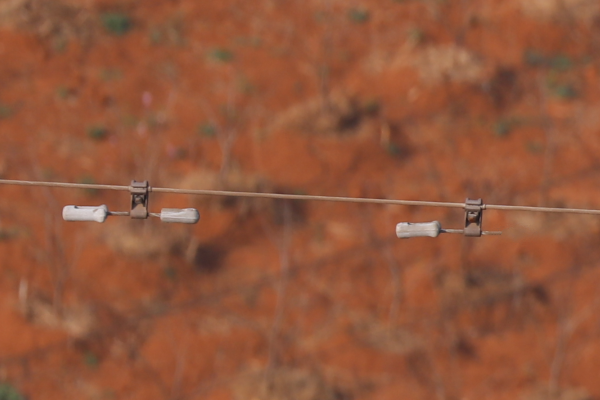damper: (58, 177, 201, 227)
damper_defect: (392, 194, 505, 245)
